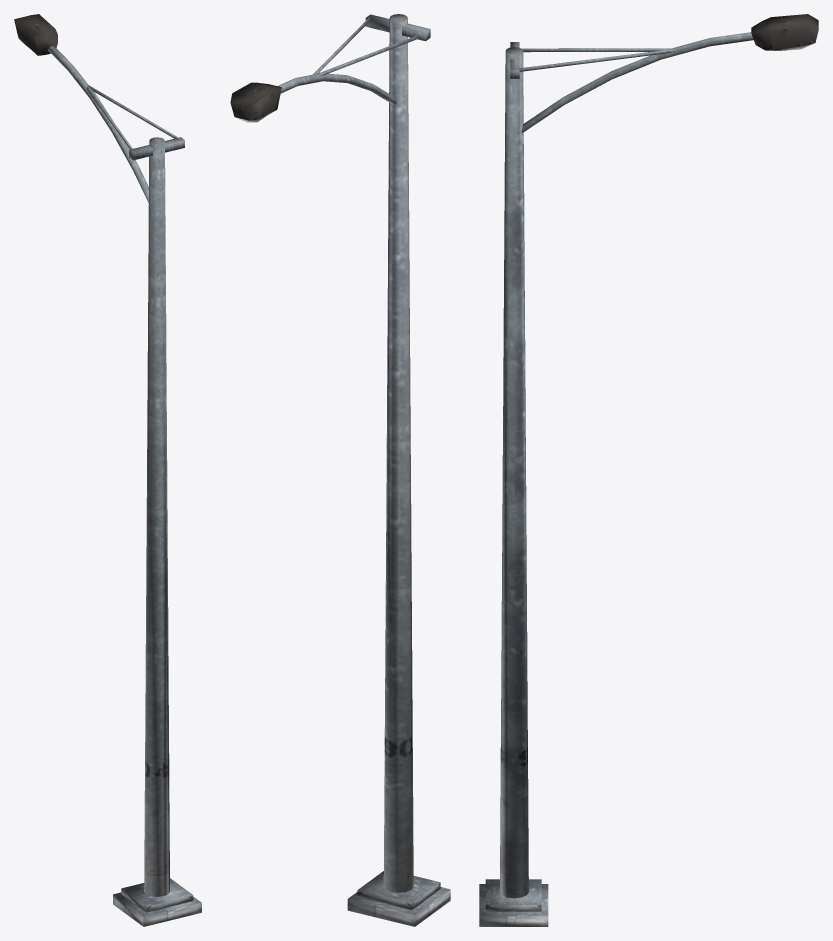
Rendered from streetLight1.fbx.
3 views of the same model, side by side, from view 1: azimuth 30°, elevation 25°; view 2: azimuth 150°, elevation 25°; view 3: azimuth 270°, elevation 25° (orthographic). The views are drawn at different scales.
Parts seen in each view (by area): view 1: streetlightA0; view 2: streetlightA0; view 3: streetlightA0.
Boxes of the visible parts, <box> form: streetlightA0: <box>14,14,201,926</box>; streetlightA0: <box>230,14,450,926</box>; streetlightA0: <box>479,14,818,926</box>.
Bounding box in the file's own units: 0.8481 × 11.09 × 3.83.
